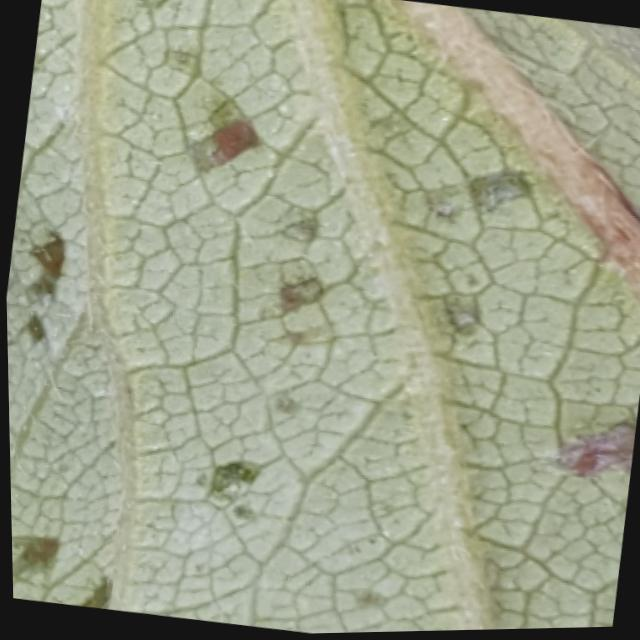Angular Leafspot: (5, 0, 640, 634)
